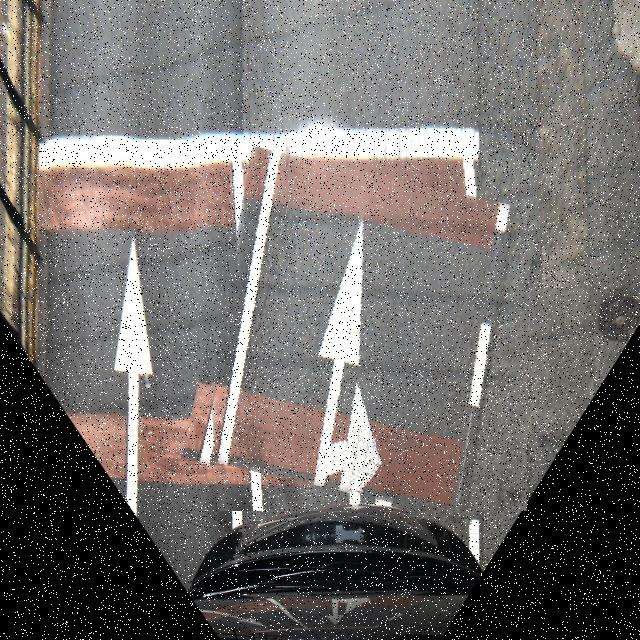forward_right: (197, 160, 527, 511)
